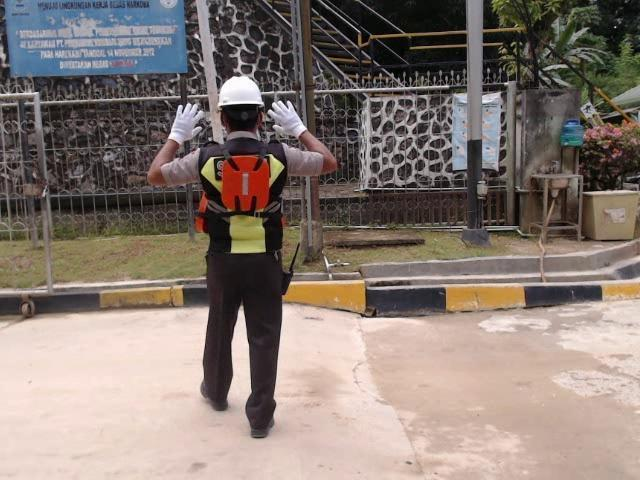vest: (219, 153, 272, 216)
